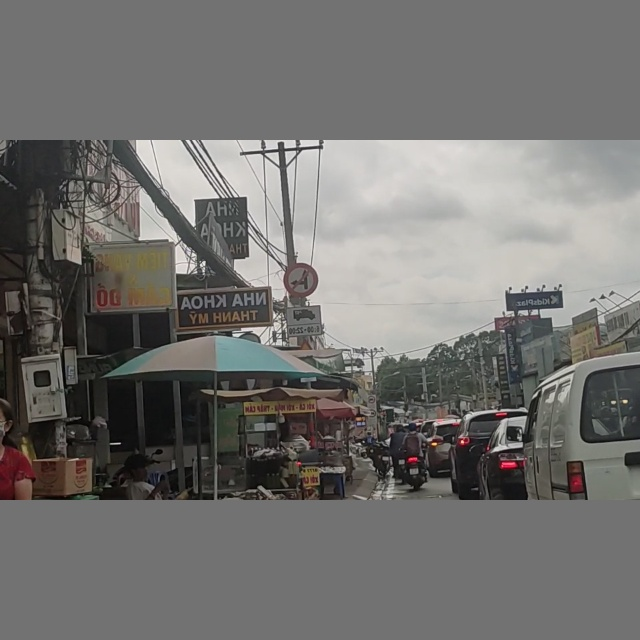P.139: (285, 264, 317, 297)
S.505a*Xe tai: (287, 306, 321, 337)
